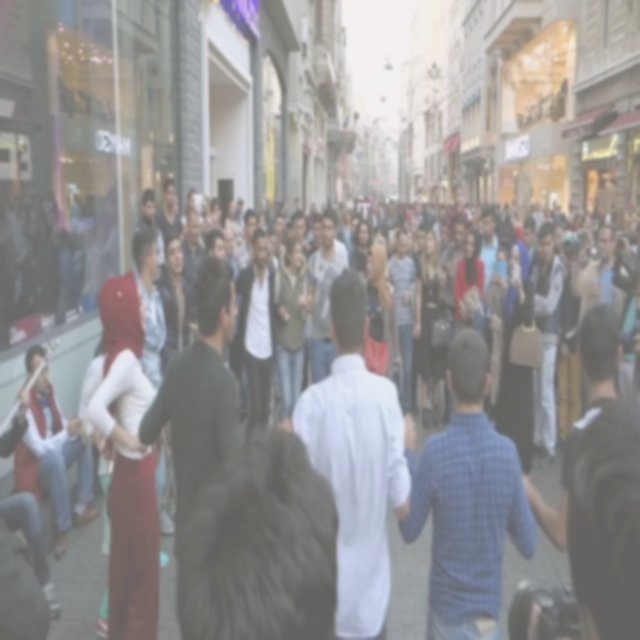pessoa: (174, 301, 344, 639), (288, 262, 417, 638), (394, 314, 542, 638), (178, 190, 640, 290), (76, 260, 166, 639), (12, 61, 130, 320), (520, 301, 638, 555), (136, 258, 244, 510), (528, 422, 639, 639), (0, 362, 76, 638), (11, 342, 100, 562), (130, 223, 174, 538), (233, 224, 290, 446), (574, 220, 632, 419), (492, 237, 538, 487), (404, 338, 506, 436), (412, 223, 456, 433), (528, 220, 564, 470), (304, 205, 350, 384), (271, 231, 311, 428), (385, 226, 417, 422), (362, 242, 401, 380), (156, 232, 192, 378), (484, 246, 511, 408), (205, 224, 235, 363), (133, 185, 166, 288), (452, 226, 485, 322), (507, 81, 567, 131), (179, 206, 209, 286), (154, 174, 186, 244)
